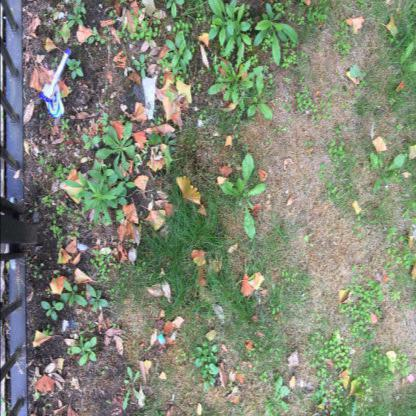Carton: (157, 334, 165, 344)
Plastic bag - wrapper: (40, 49, 72, 117)
Unlabeled litter: (142, 76, 157, 120)
